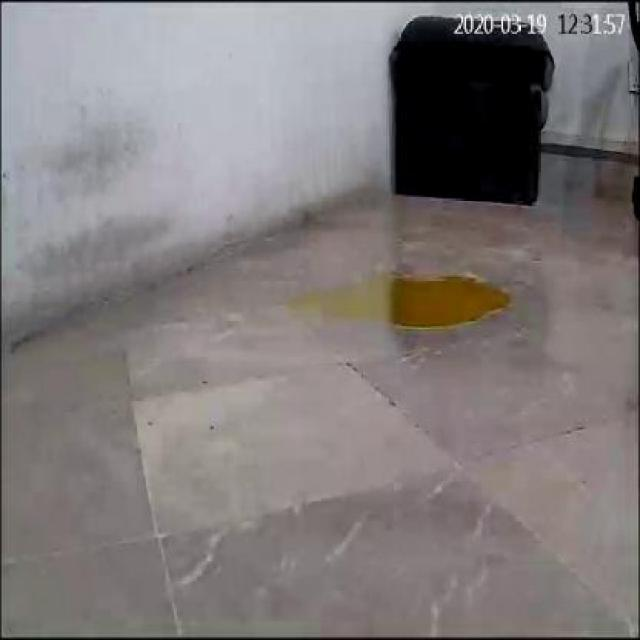spill: (288, 270, 512, 330)
